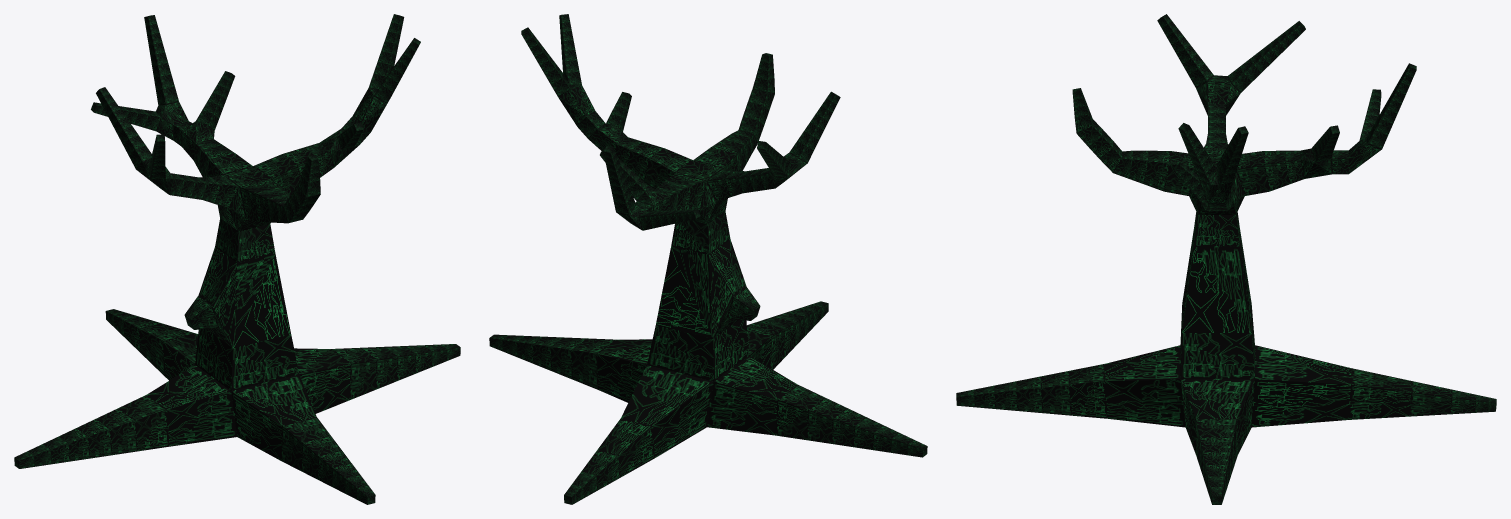
File: tree.obj
The picture shows the model from 3 angles, left to right: view 1: azimuth 30°, elevation 25°; view 2: azimuth 150°, elevation 25°; view 3: azimuth 270°, elevation 25°; orthographic projection. The views are drawn at different scales.
Parts seen in each view (by area): view 1: 立方体_立方体.002; view 2: 立方体_立方体.002; view 3: 立方体_立方体.002.
Part boxes in pixels (x1=…): 立方体_立方体.002: x1=14, y1=14, x2=460, y2=504; 立方体_立方体.002: x1=489, y1=14, x2=927, y2=504; 立方体_立方体.002: x1=956, y1=14, x2=1496, y2=504.
Size of the model in its own units: 199 by 154 by 204.
1 material, 1 textured.
